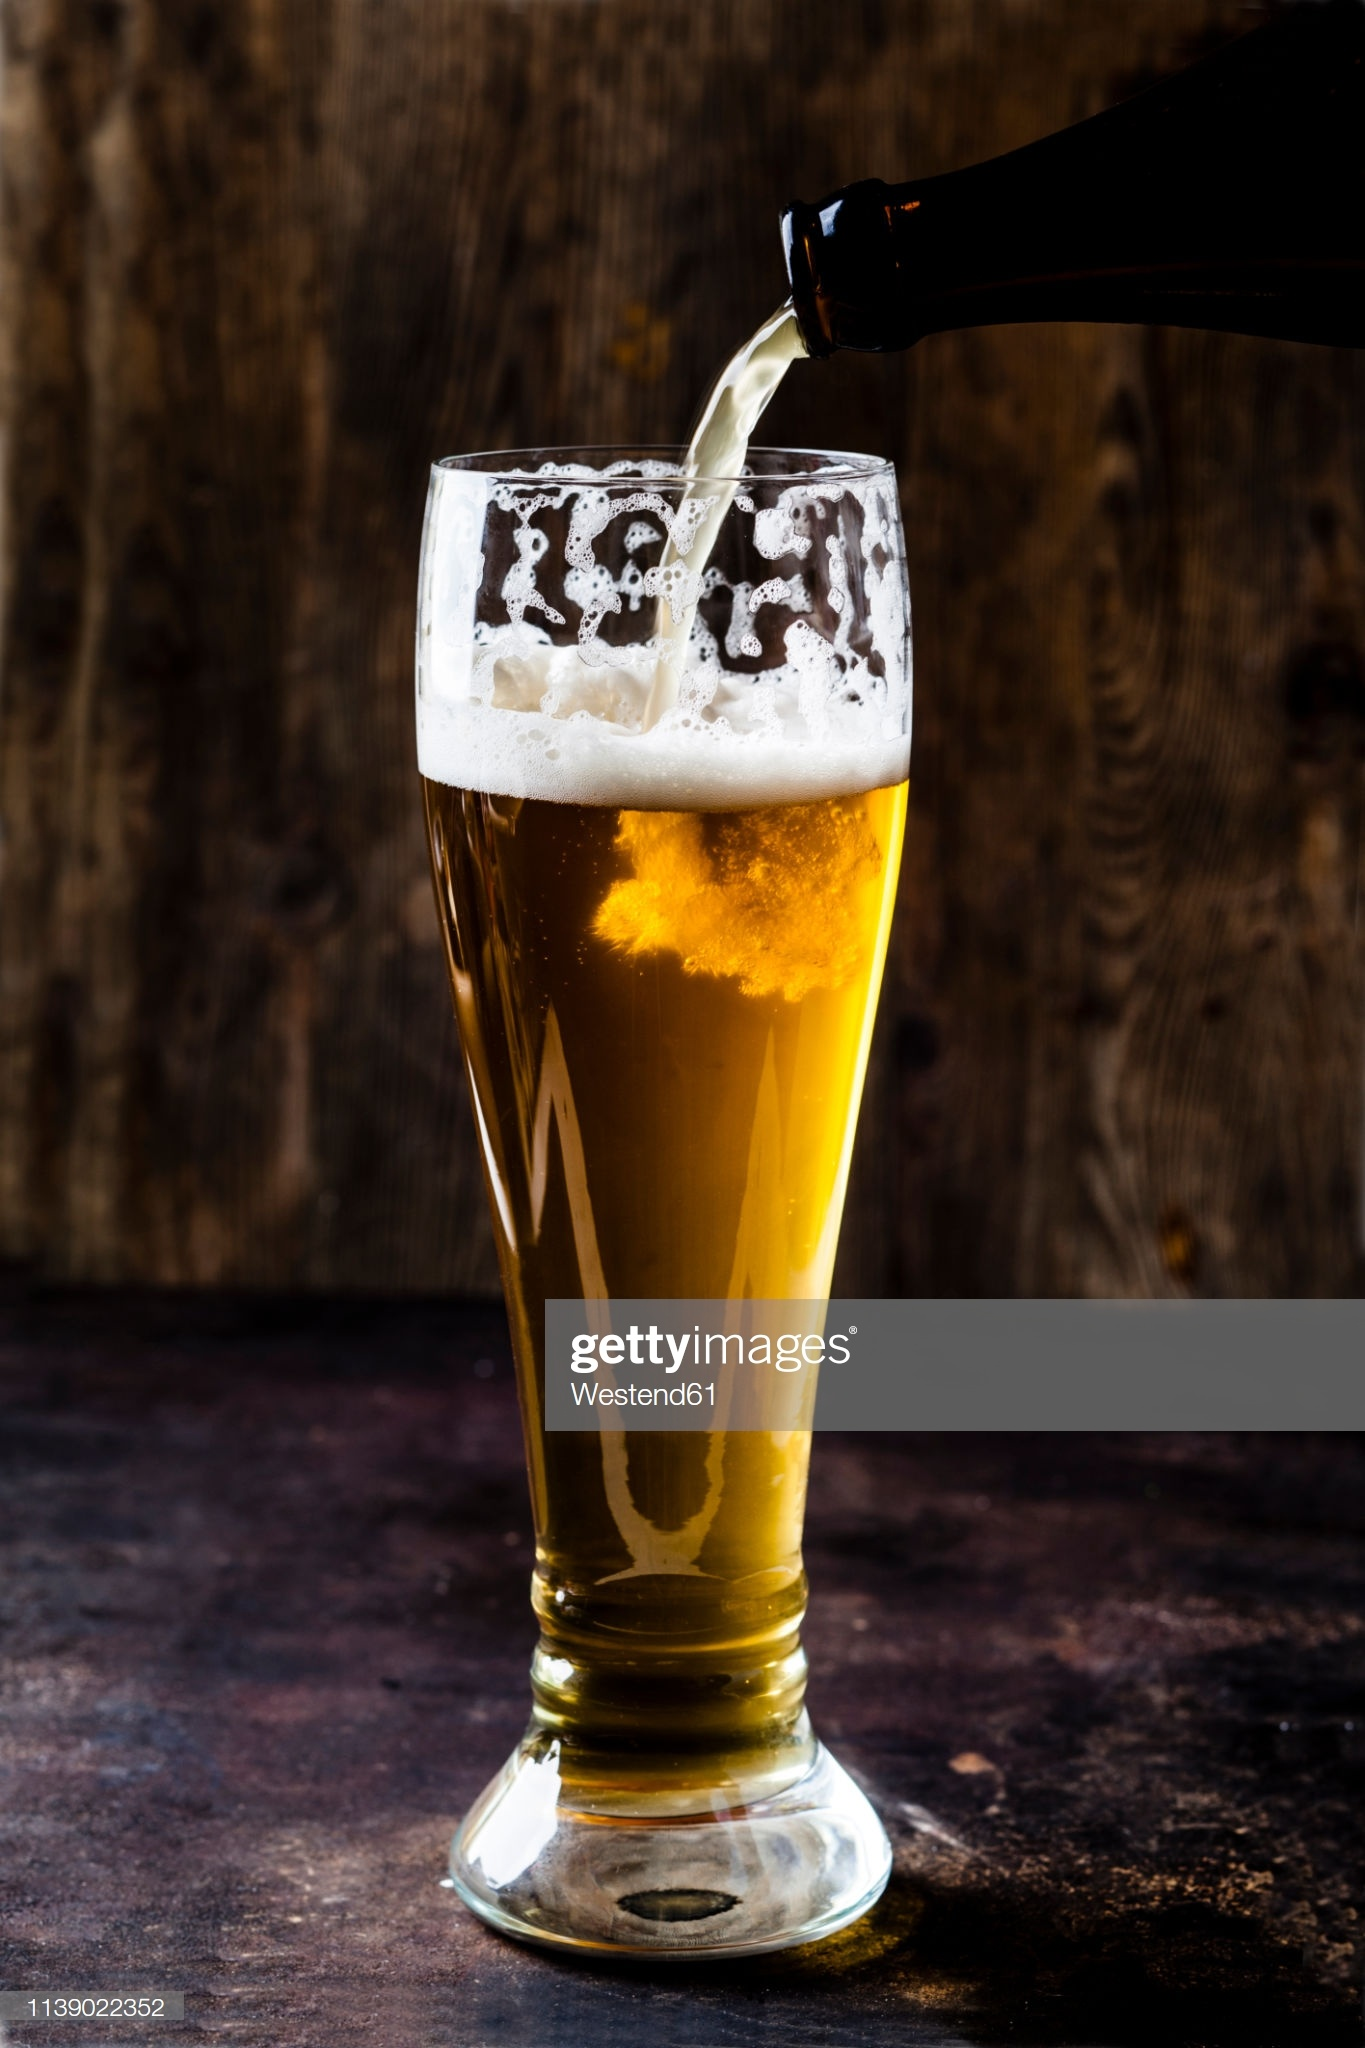glassBeer: (396, 448, 925, 1923)
